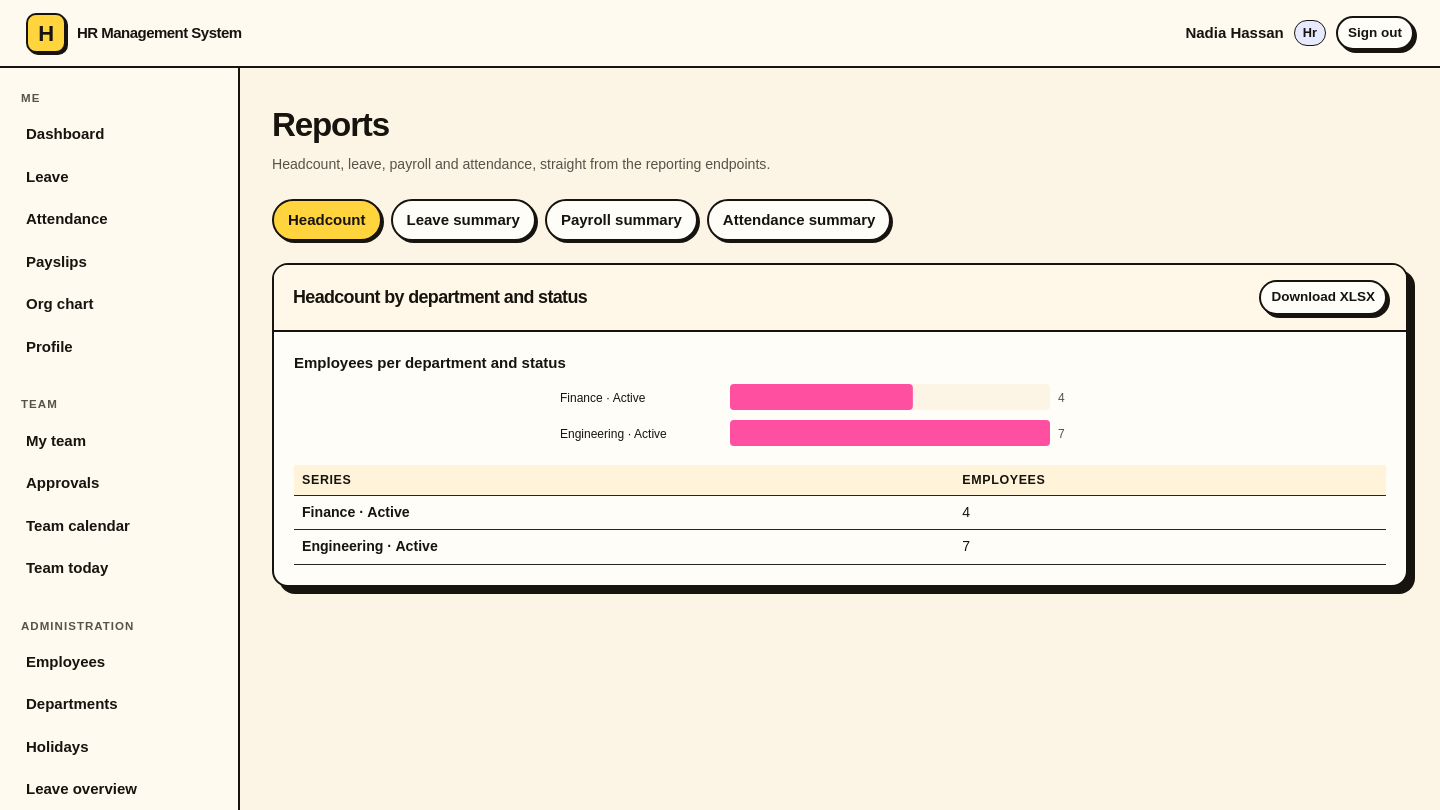
it: reports › charts the payroll net pay per month with formatted money
This screenshot has width=1440, height=810.
Click the tab "Payroll summary" at (621, 220), box [545, 199, 698, 241]
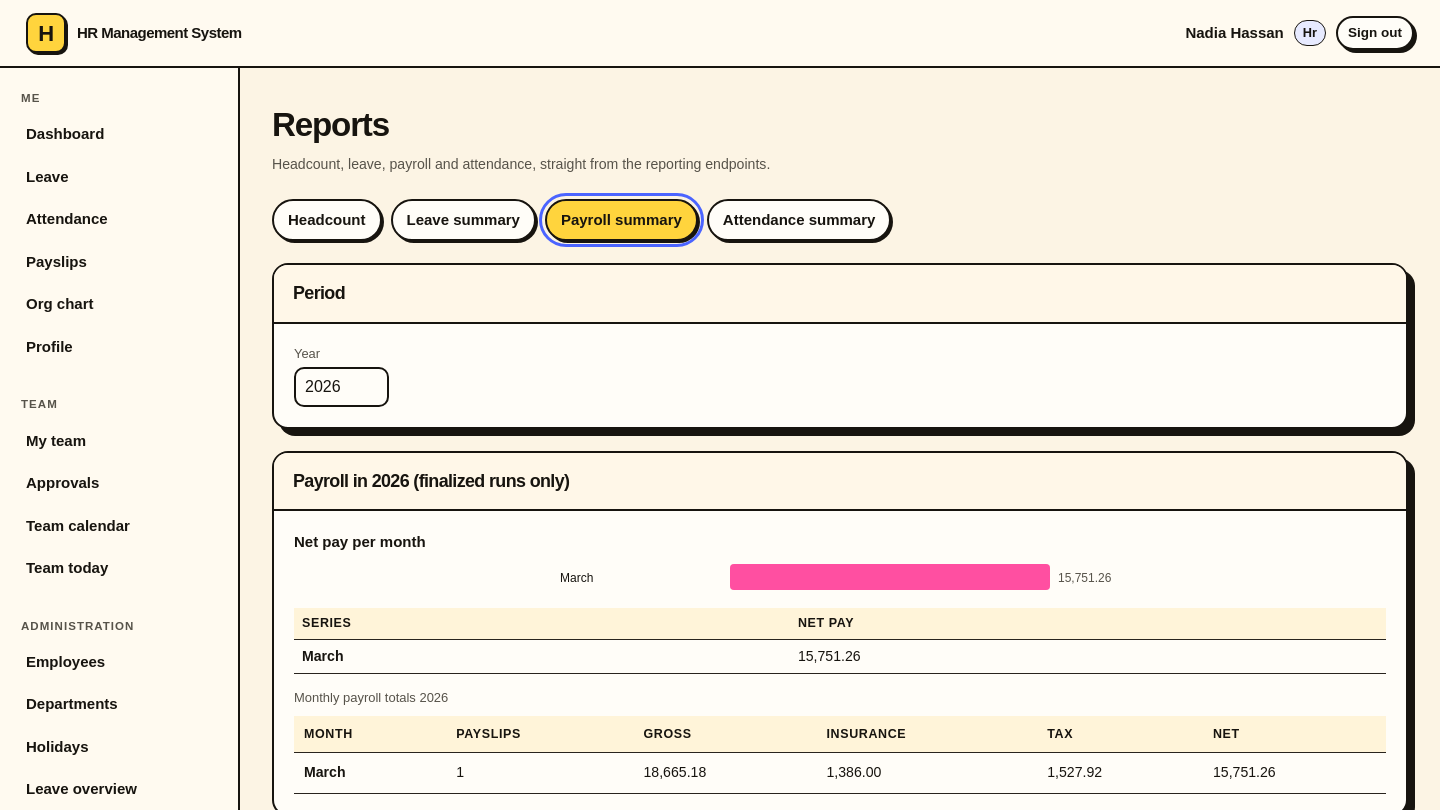
Expected: the 1st cell "15,751.26" is shown, [790, 640, 1386, 674]
